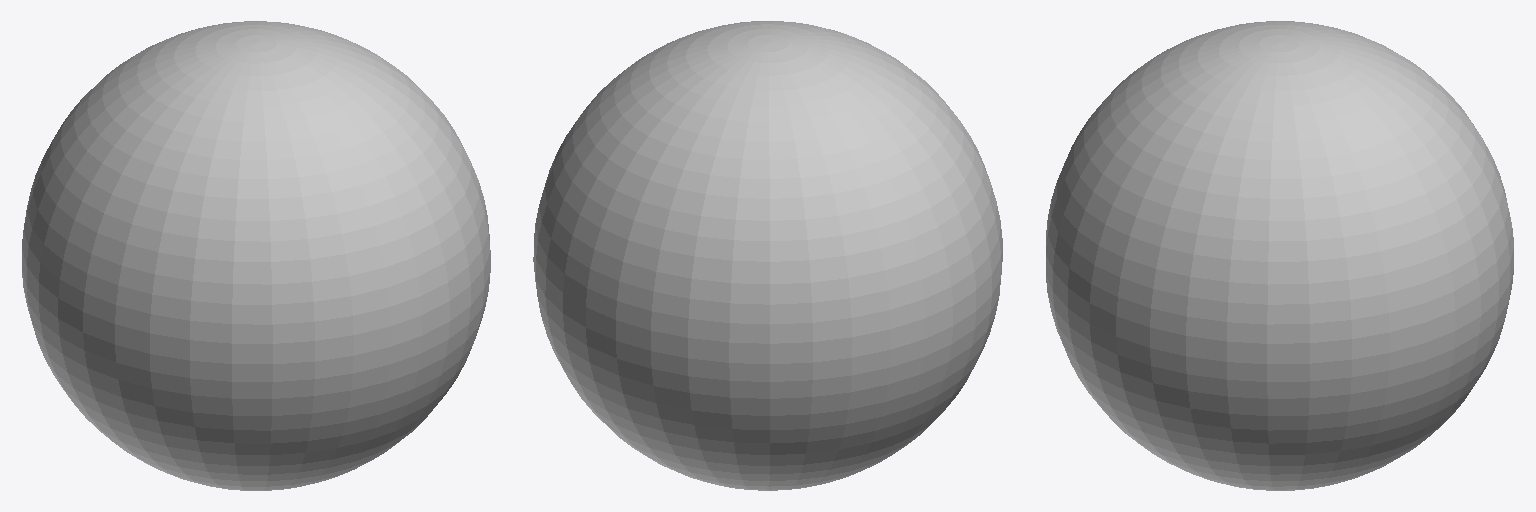
3 views of the same model, side by side, from view 1: azimuth 30°, elevation 25°; view 2: azimuth 150°, elevation 25°; view 3: azimuth 270°, elevation 25° (orthographic).
Parts seen in each view (by area): view 1: Globe; view 2: Globe; view 3: Globe.
Part boxes in pixels (x1,y1,x2,y2): Globe: (22,21,490,490); Globe: (533,21,1002,490); Globe: (1046,21,1513,490).
Bounding box in the file's own units: 4.54 × 4.55 × 4.54.